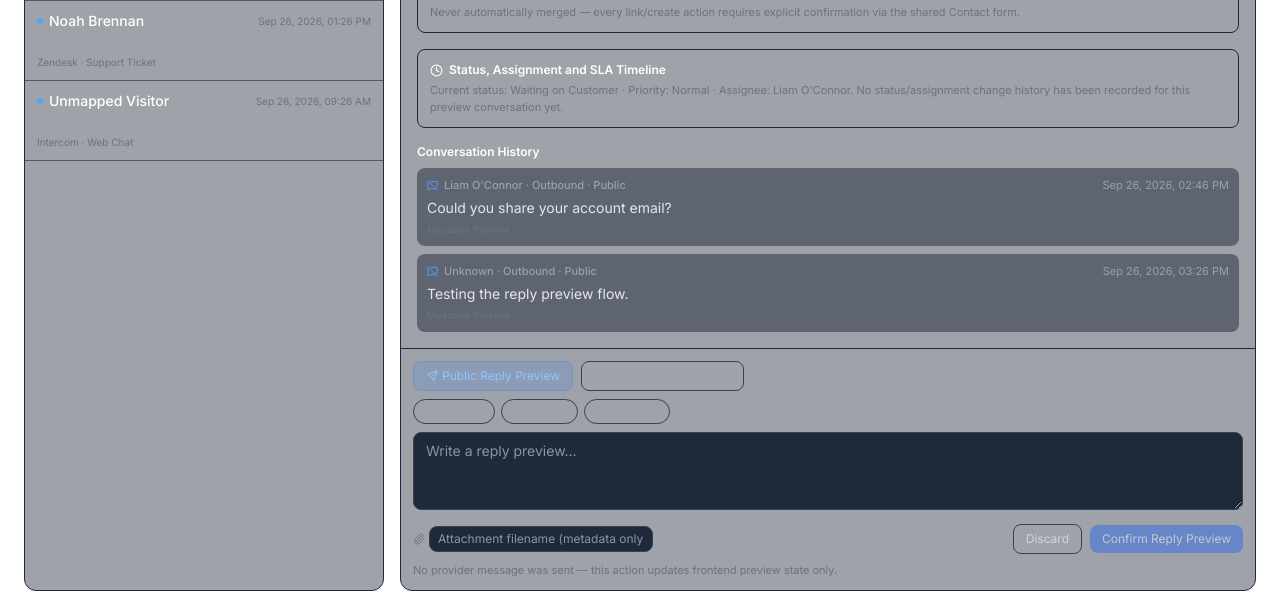
Scenario: SupportInbox › switching to Internal Note Preview keeps it visually and textually distinct from a public reply
(page scrolled)
expect the heading "Conversation History" is shown: met, box [417,144,540,159]
Click the tab "Internal Note Preview" at (663, 376), box [581,361,744,391]
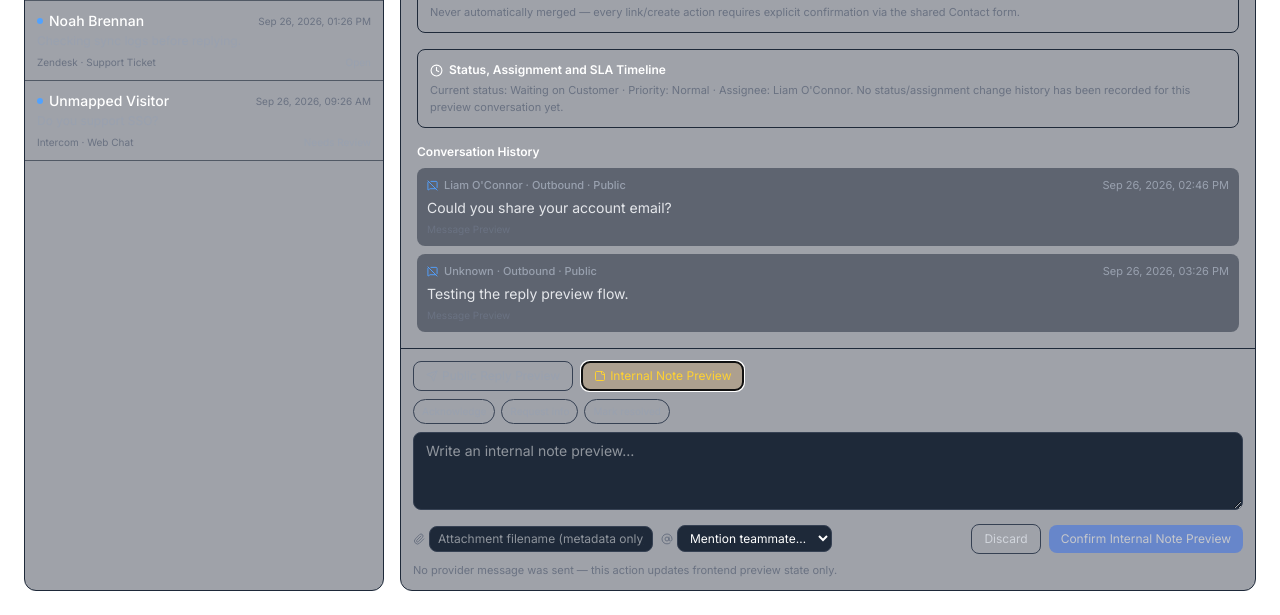
expect the button "Confirm Internal Note Preview" is shown: met, box [1049,525,1243,553]
expect the text box with placeholder "Write an internal note preview…" is shown: met, box [413,432,1243,510]
